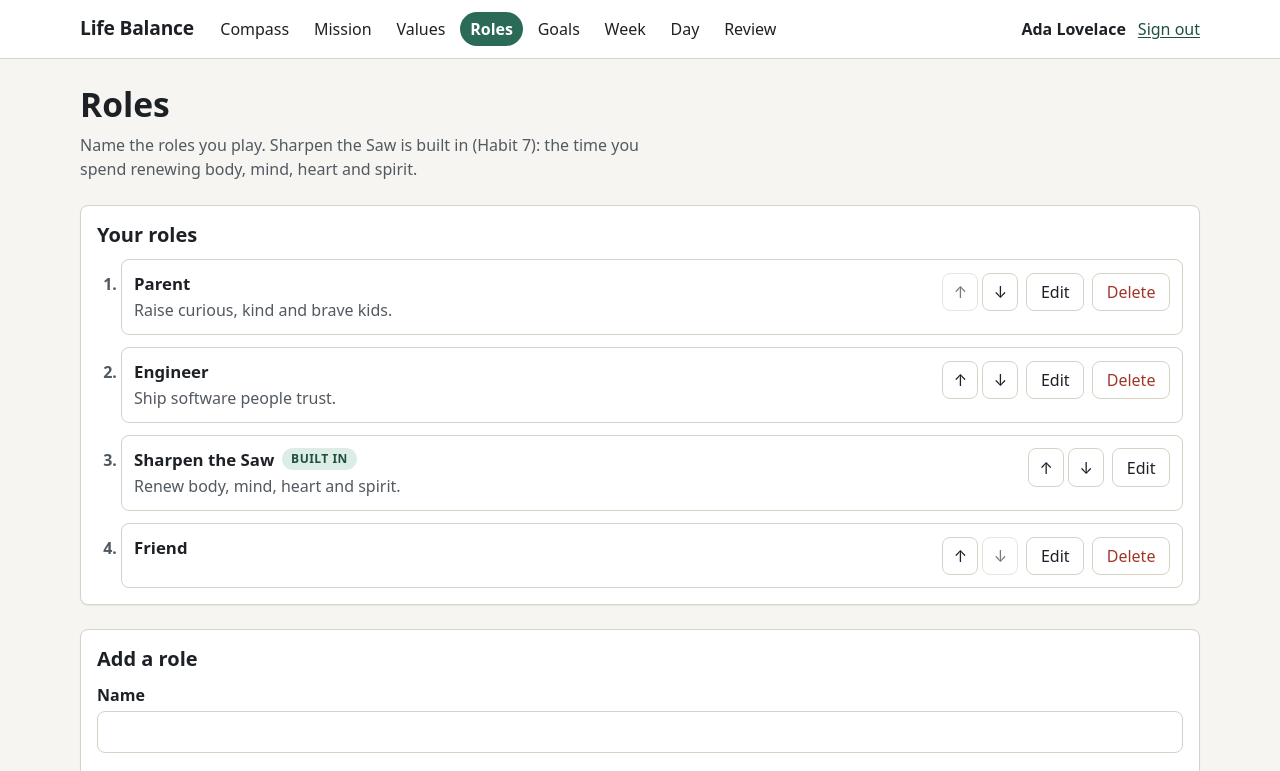
explains why a role that still has goals cannot be deleted
This screenshot has width=1280, height=771.
What coordinates should you click on to do the following:
click the button named "Delete Engineer"
I would click on:
 (1131, 380)
Its box is [1092,361,1170,399].
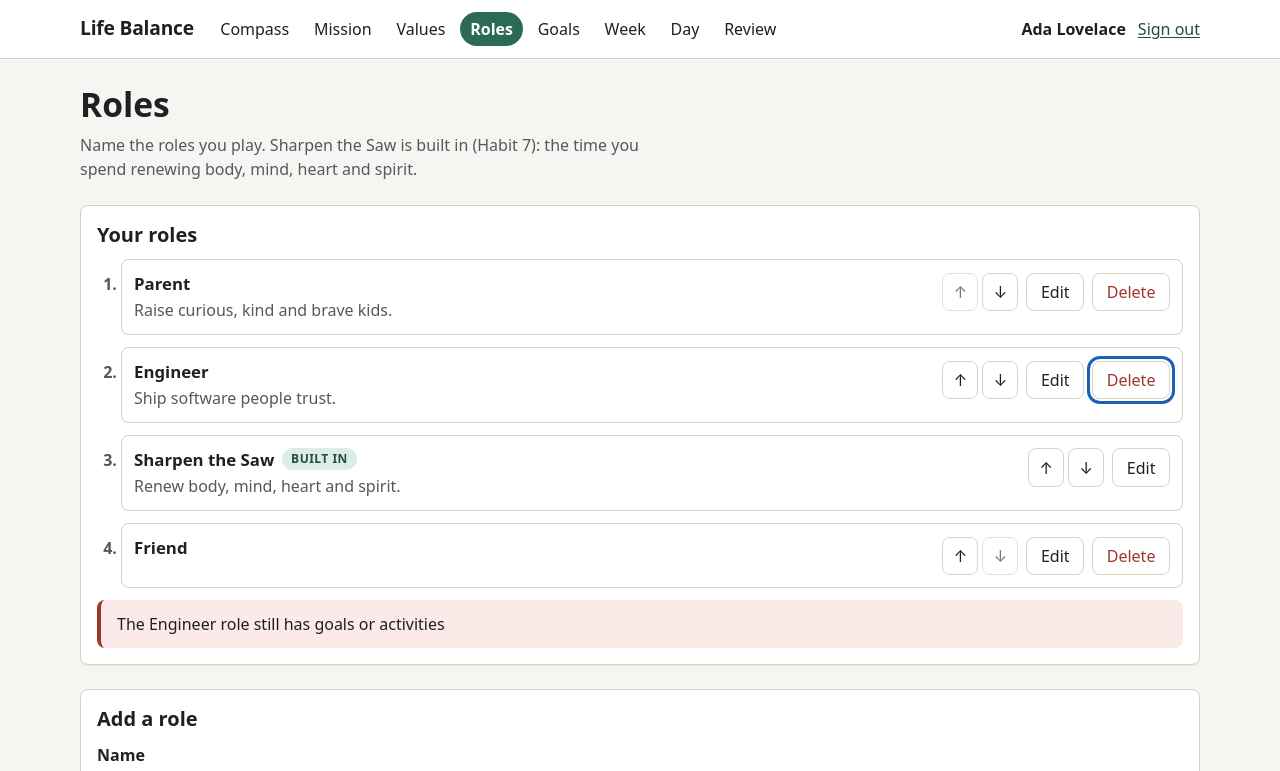
Result: the message reads "The Engineer role still has goals or activities" at [117,613,445,635]
